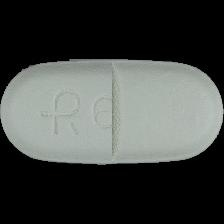63187-006: (0, 0, 224, 224)
